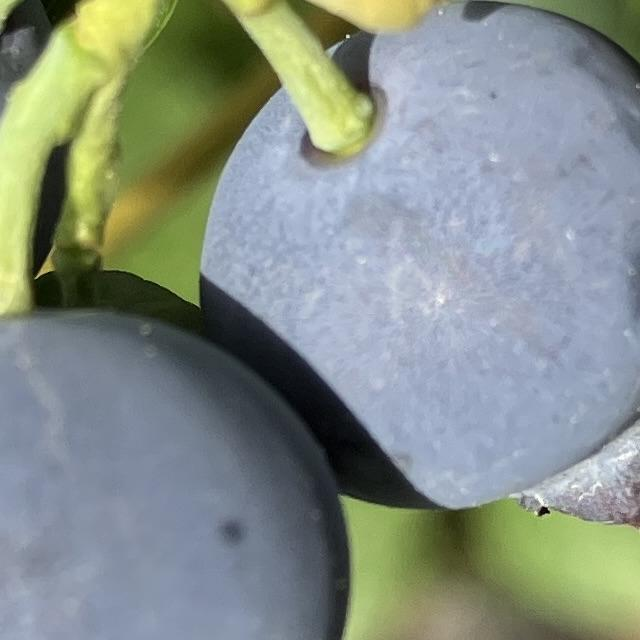Blueberries: (192, 0, 640, 513), (0, 301, 352, 640)
